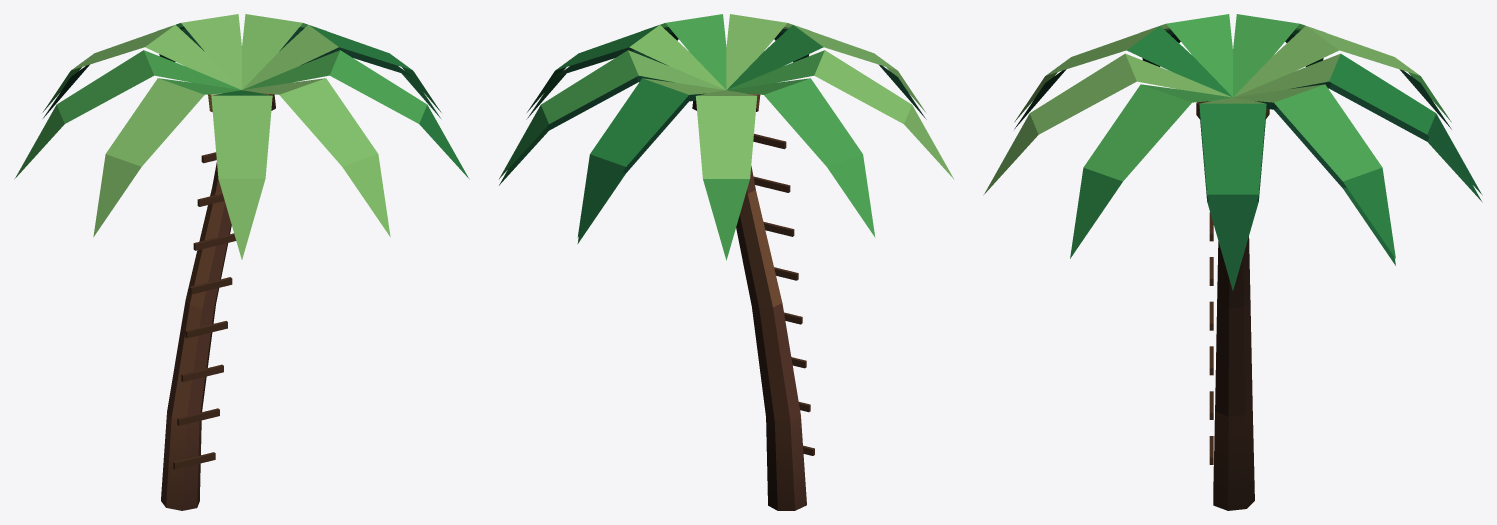
Rendered from tree_palm.glb.
The picture shows the model from 3 angles, left to right: view 1: azimuth 30°, elevation 25°; view 2: azimuth 150°, elevation 25°; view 3: azimuth 270°, elevation 25°; orthographic projection. The views are drawn at different scales.
Visible parts, largest first — view 1: tree_palm; view 2: tree_palm; view 3: tree_palm.
Boxes of the visible parts, x1,y1,x2,y2 form: tree_palm: [14, 14, 469, 510]; tree_palm: [499, 14, 953, 510]; tree_palm: [983, 14, 1482, 510].
Bounding box in the file's own units: 1.9 × 2.02 × 1.93.
